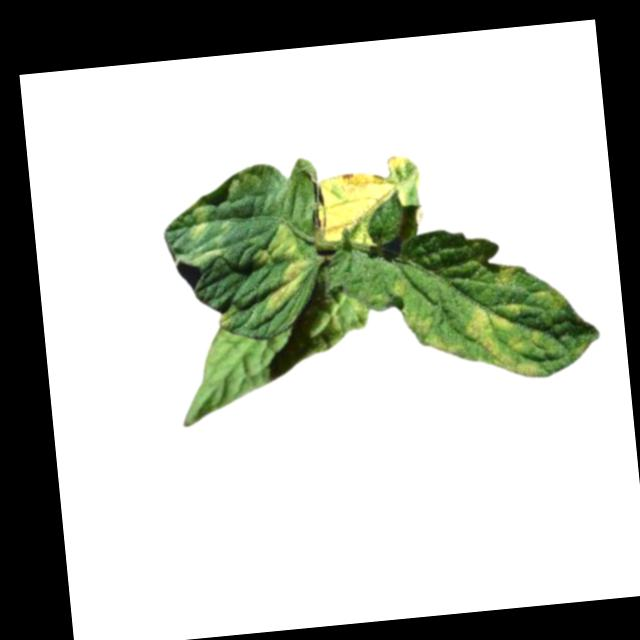Leaf_Mold: (461, 258, 571, 385), (310, 152, 425, 253), (250, 220, 315, 316)
